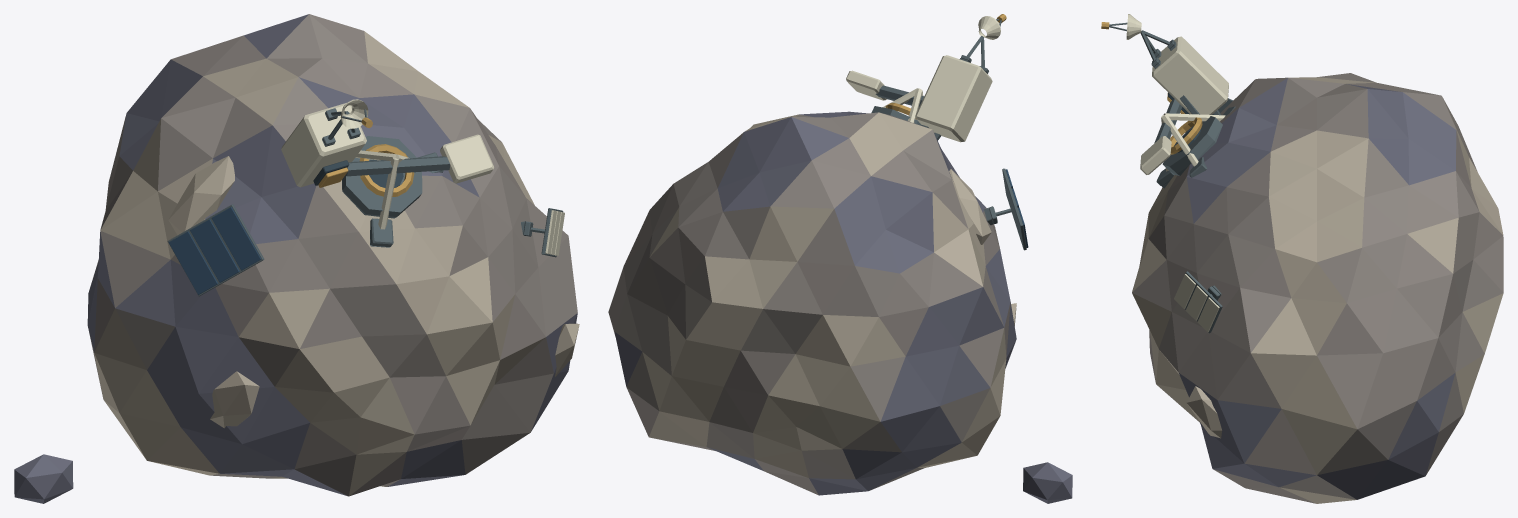
File: asteroids.glb
The picture shows the model from 3 angles, left to right: view 1: azimuth 30°, elevation 25°; view 2: azimuth 150°, elevation 25°; view 3: azimuth 270°, elevation 25°; orthographic projection. The views are drawn at different scales.
Visible parts, largest first — view 1: S1_asteroids • modeled surfaces; view 2: S1_asteroids • modeled surfaces; view 3: S1_asteroids • modeled surfaces.
Boxes of the visible parts, x1,y1,x2,y2 form: S1_asteroids • modeled surfaces: [14, 14, 579, 503]; S1_asteroids • modeled surfaces: [608, 14, 1072, 503]; S1_asteroids • modeled surfaces: [1101, 14, 1503, 503].
Size of the model in its own units: 1.9 by 1.64 by 1.45.
